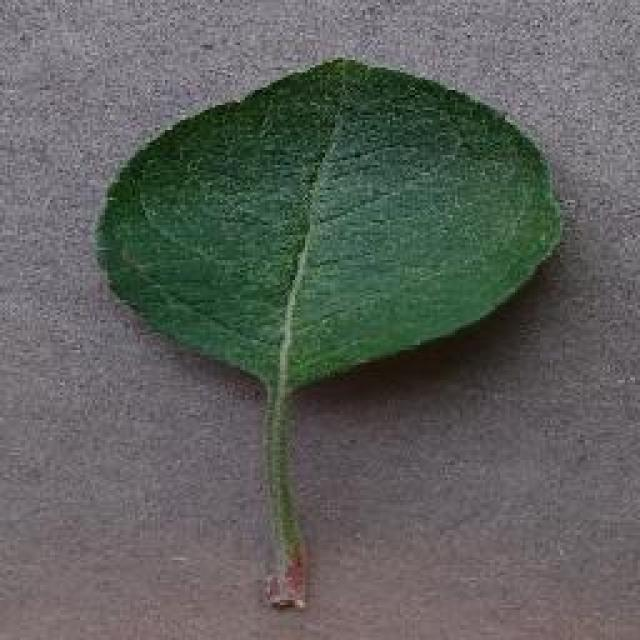apple healthy: (92, 52, 562, 608)
